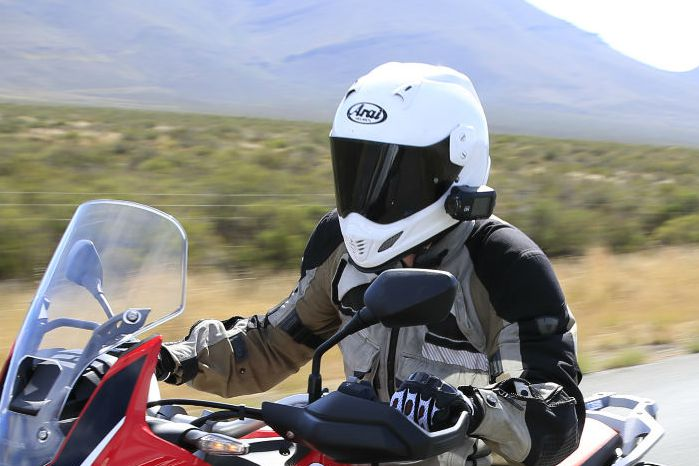with_helmet: (325, 57, 512, 275)
